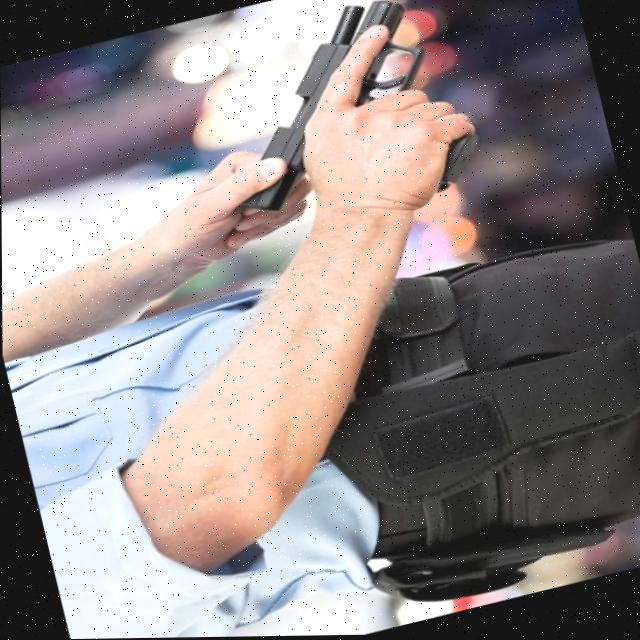pistol: (195, 0, 454, 222)
